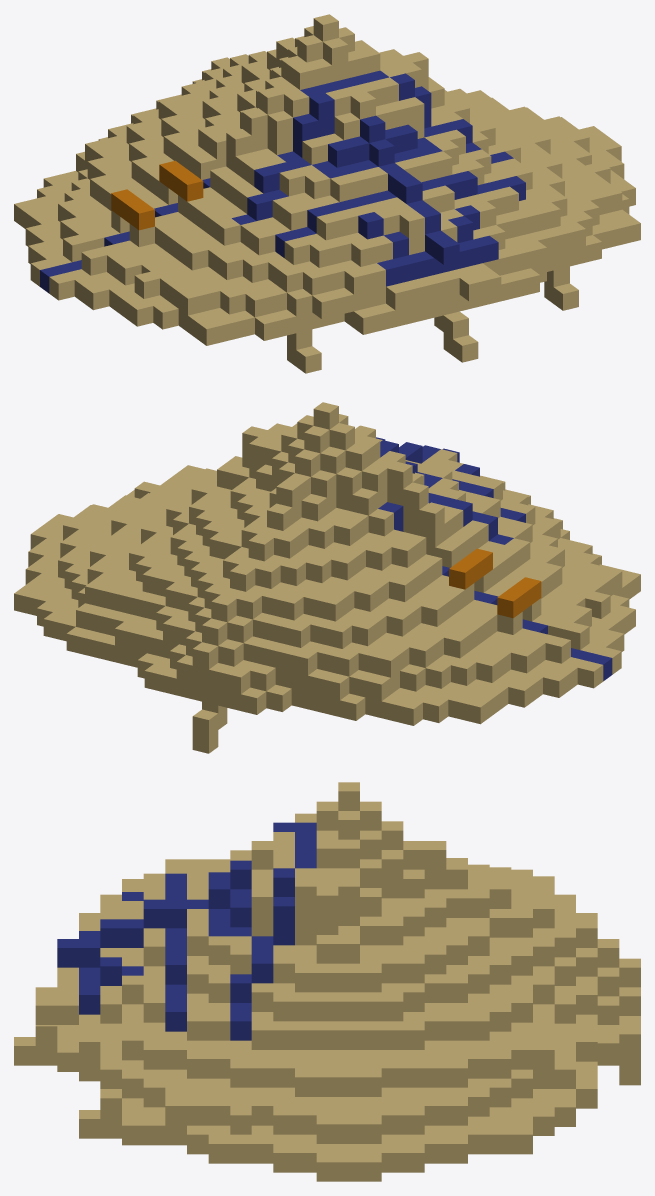
Rendered from solomonk.glb.
The picture shows the model from 3 angles, top to bottom: view 1: azimuth 30°, elevation 25°; view 2: azimuth 150°, elevation 25°; view 3: azimuth 270°, elevation 25°; orthographic projection. The views are drawn at different scales.
Visible parts, largest first — view 1: solomonk; view 2: solomonk; view 3: solomonk.
Boxes of the visible parts, left/top/right/bottom form: solomonk: left=14, top=14, right=640, bottom=373; solomonk: left=14, top=402, right=640, bottom=753; solomonk: left=14, top=782, right=640, bottom=1181.
Size of the model in its own units: 1.5 by 0.645 by 1.25.
1 material, 1 textured.
